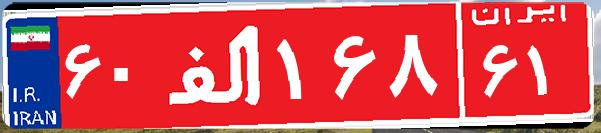0: (110, 28, 158, 105)
1: (273, 28, 330, 110), (525, 38, 570, 115)
6: (330, 28, 385, 110), (57, 26, 110, 107), (475, 38, 525, 113)
8: (385, 28, 445, 110)
الف: (158, 15, 273, 115)
